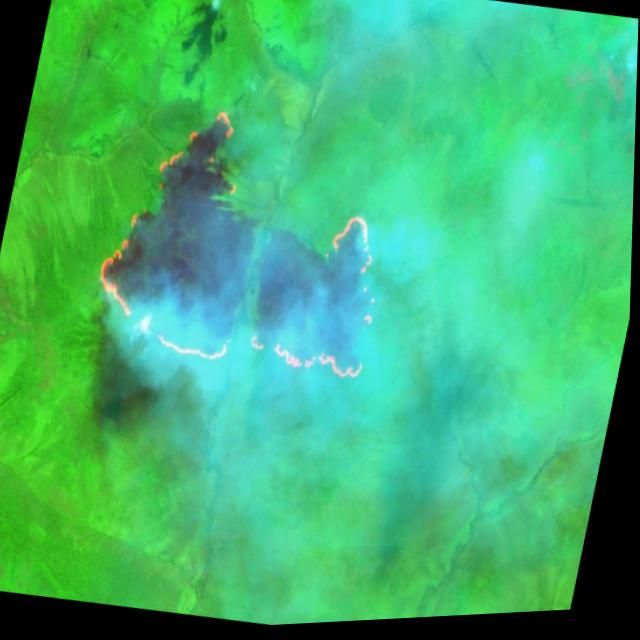fire: (76, 87, 418, 413)
